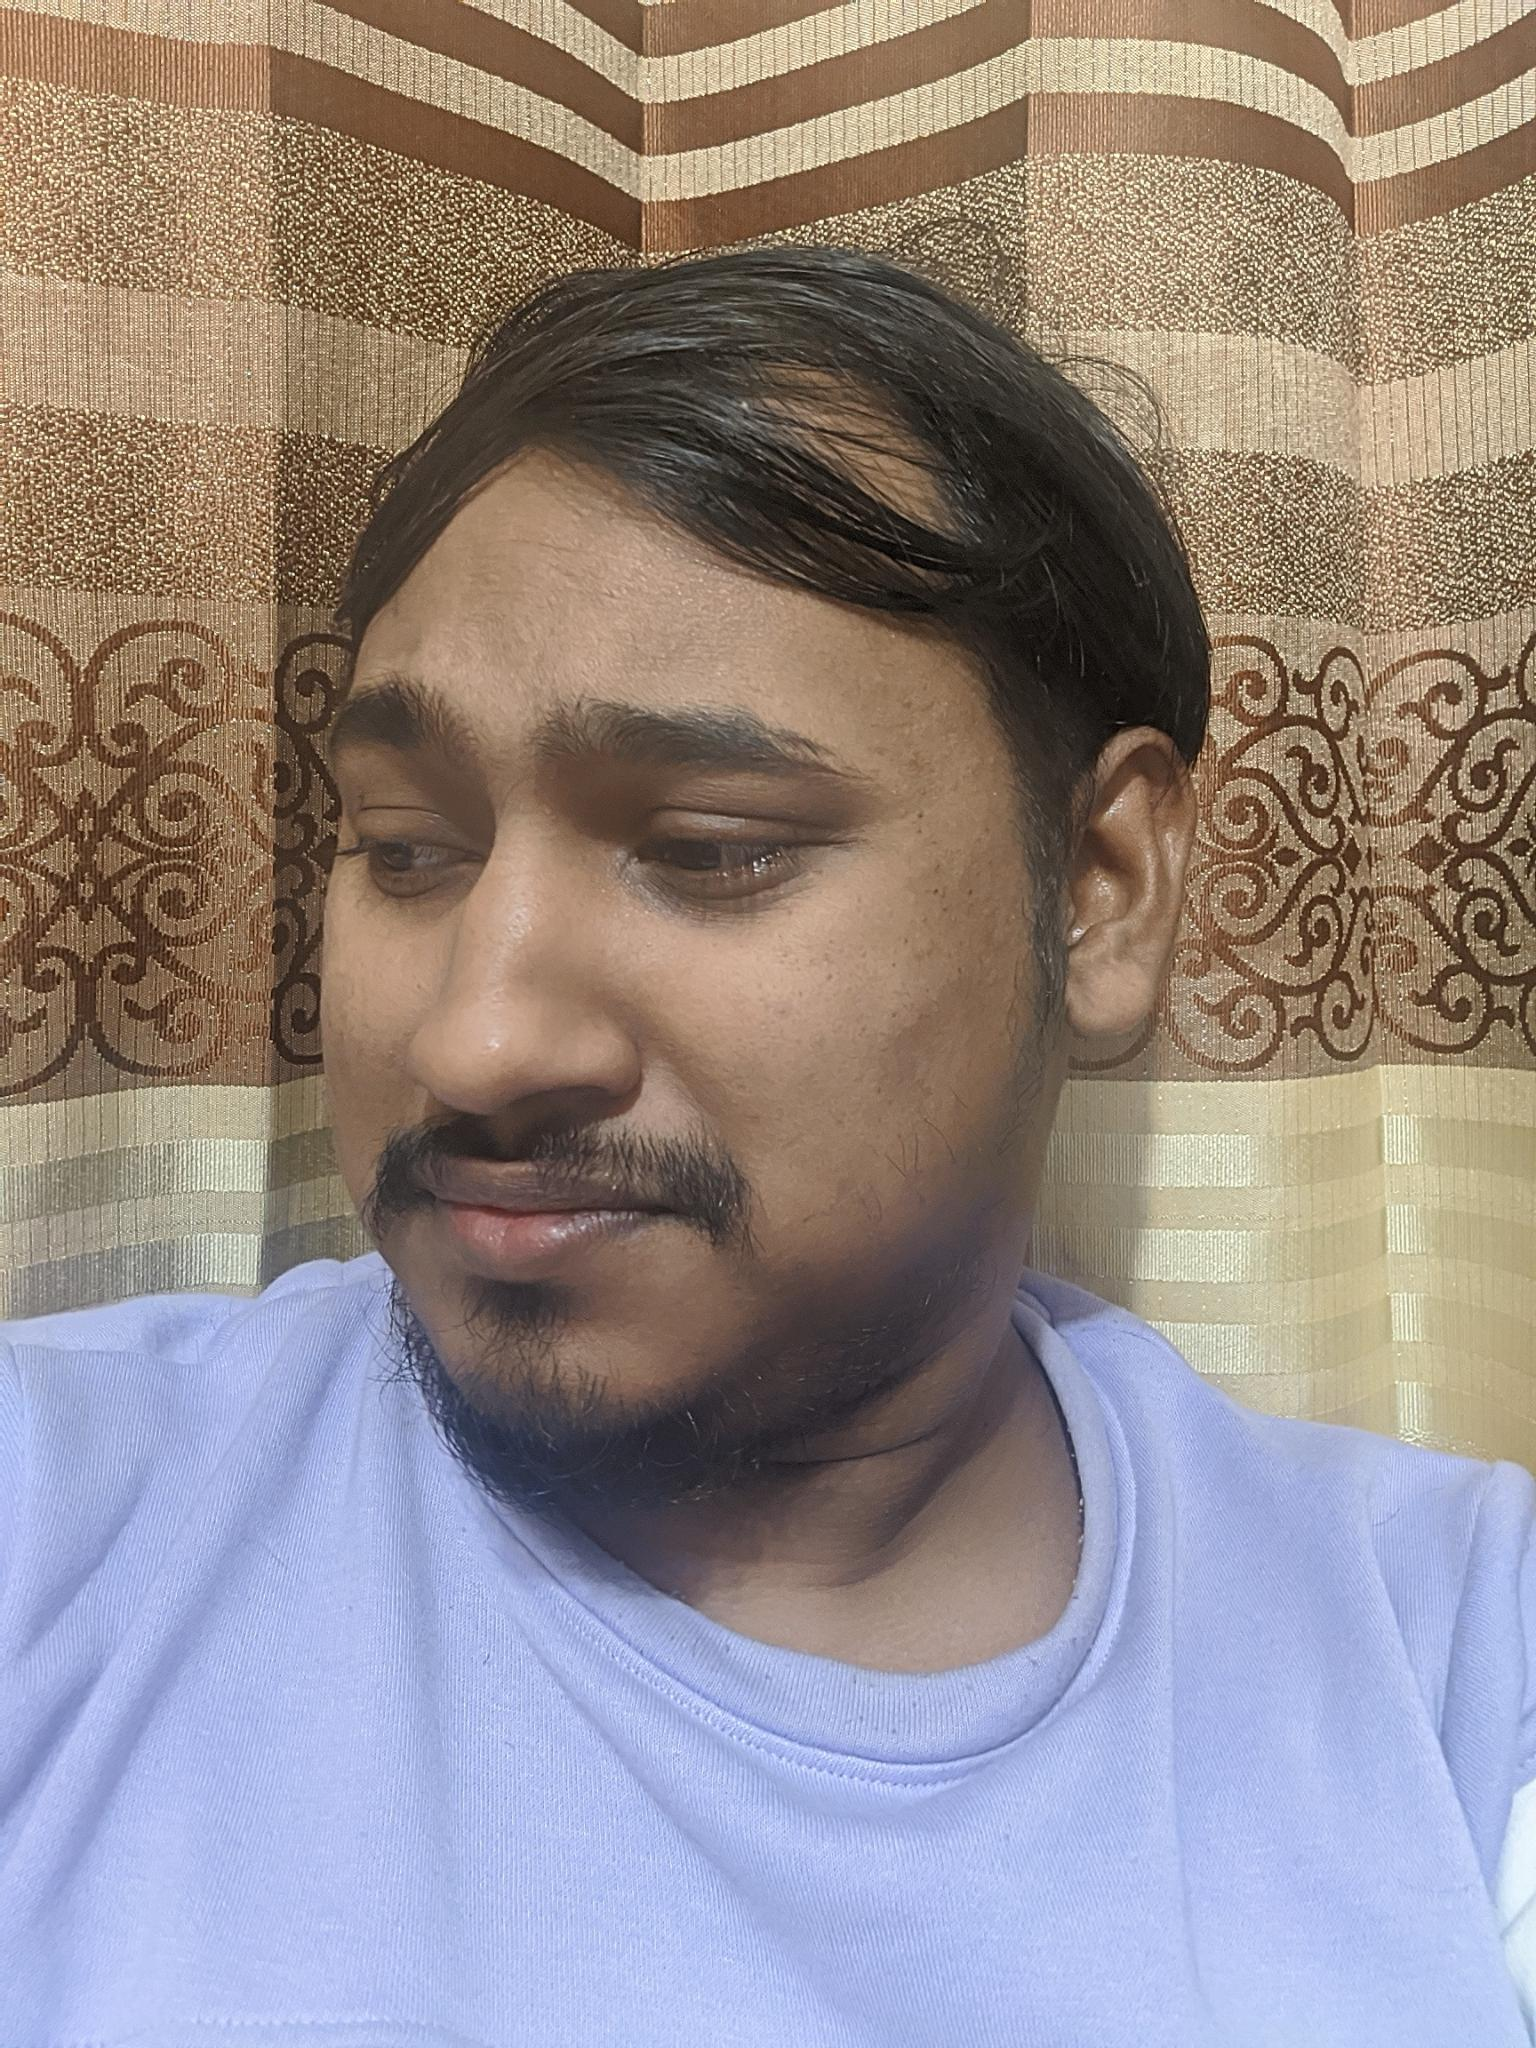Sad: (263, 587, 934, 1496)
